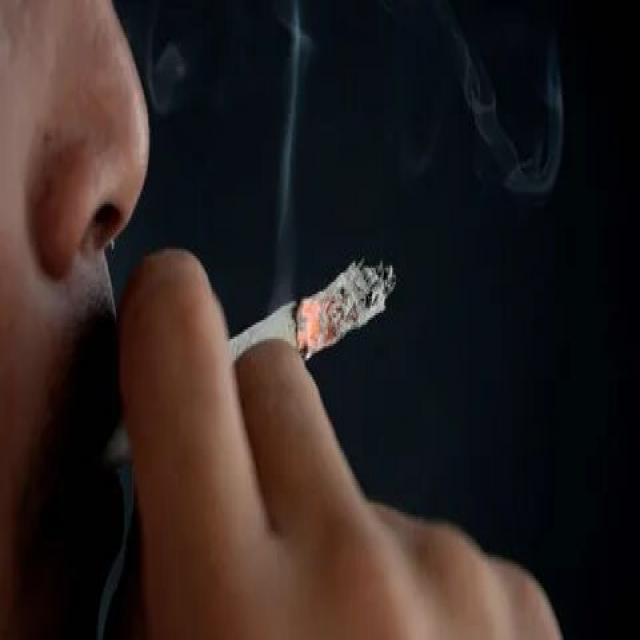cigarette: (221, 254, 400, 382)
